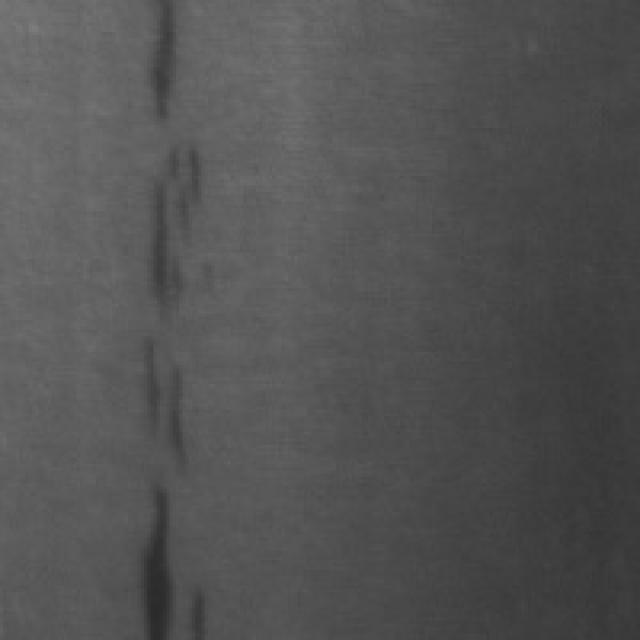inclusion: (125, 105, 211, 314), (134, 477, 212, 637), (125, 320, 202, 477), (131, 0, 195, 125)
